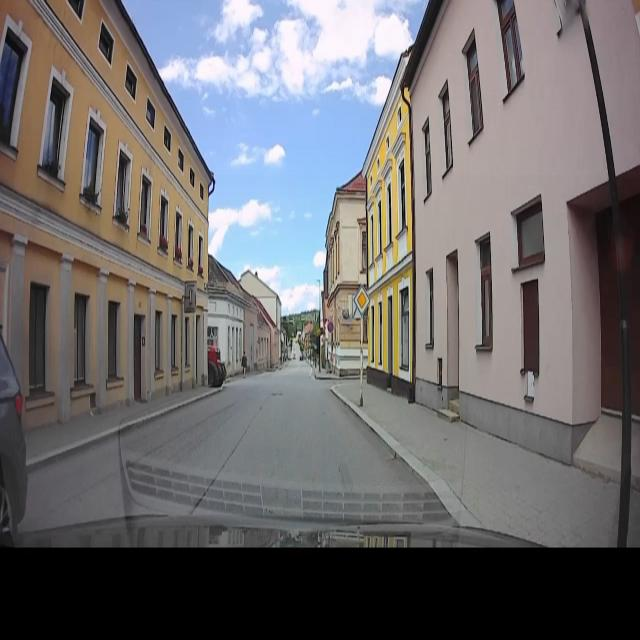forb_stopping: (327, 319, 336, 334)
